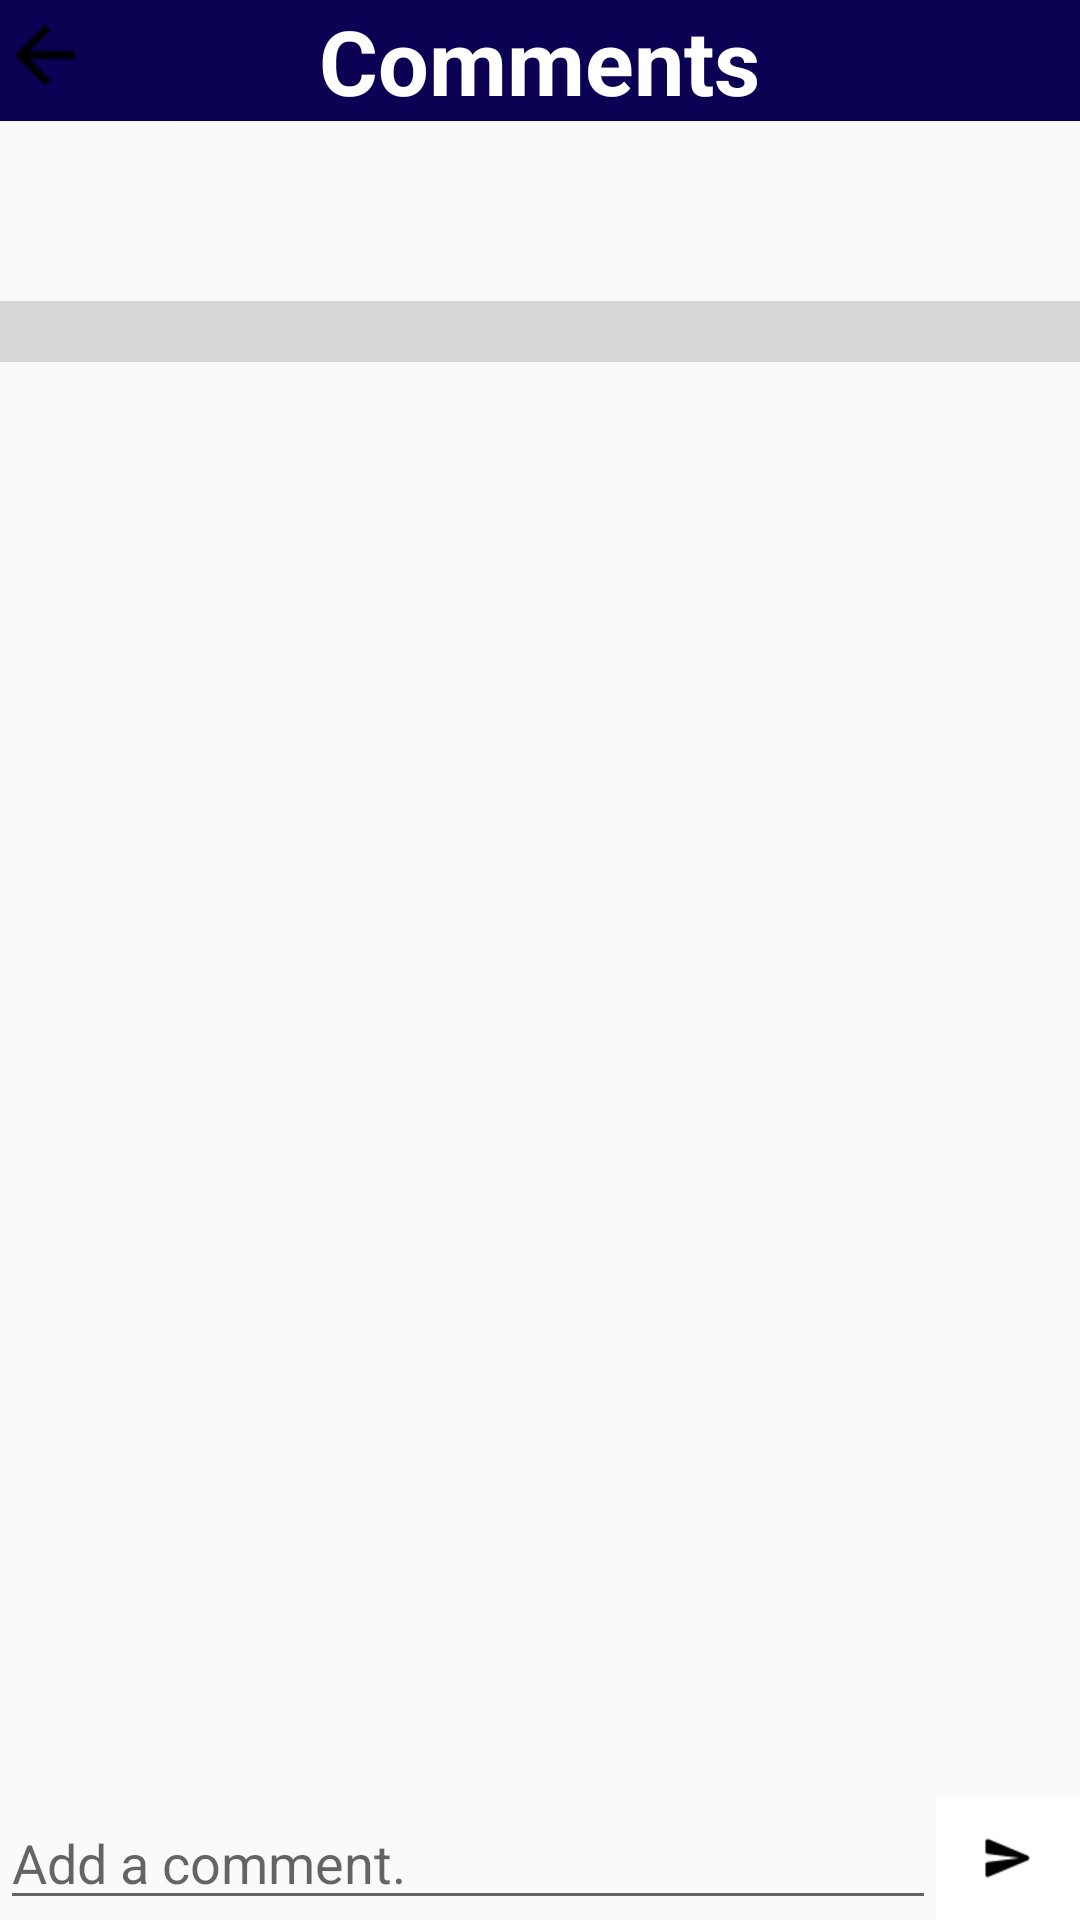

Icon click points for this 1080×1920 phone screenshot, format (x=x, y=y):
send: (x=1007, y=1858)
